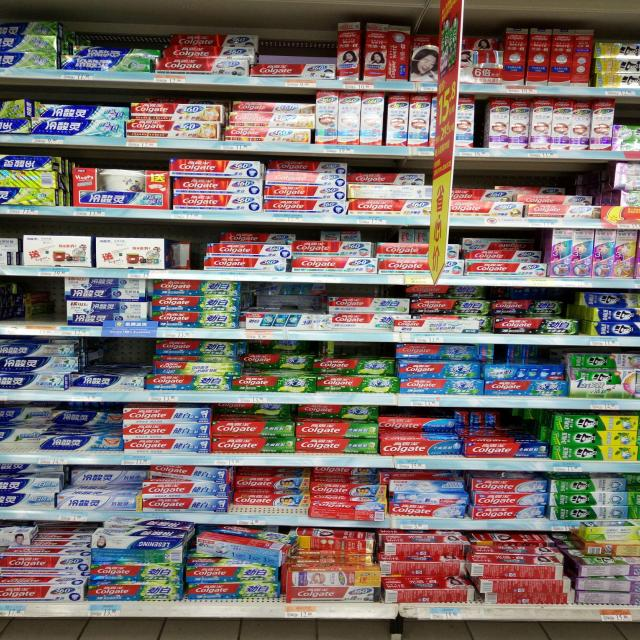void: (258, 290, 320, 308), (39, 286, 66, 318), (109, 342, 149, 363), (614, 100, 640, 124)
